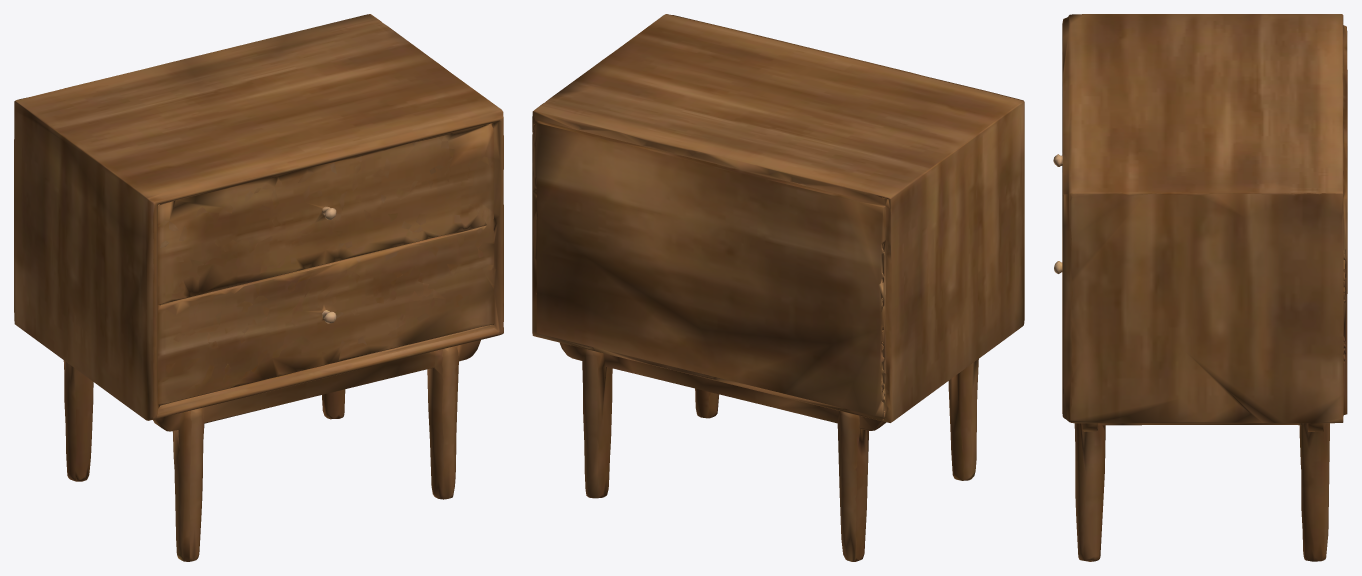
File: J3yedke7OpkOOlaX3CbiD.glb
3 views of the same model, side by side, from view 1: azimuth 30°, elevation 25°; view 2: azimuth 150°, elevation 25°; view 3: azimuth 270°, elevation 25° (orthographic). The views are drawn at different scales.
Visible parts, largest first — view 1: geometry_0; view 2: geometry_0; view 3: geometry_0.
Part boxes in pixels (<box>): geometry_0: <box>14,14,503,561</box>; geometry_0: <box>532,14,1024,561</box>; geometry_0: <box>1053,14,1347,561</box>.
Size of the model in its own units: 0.9809 by 1 by 0.6792.
1 material, 1 textured.
